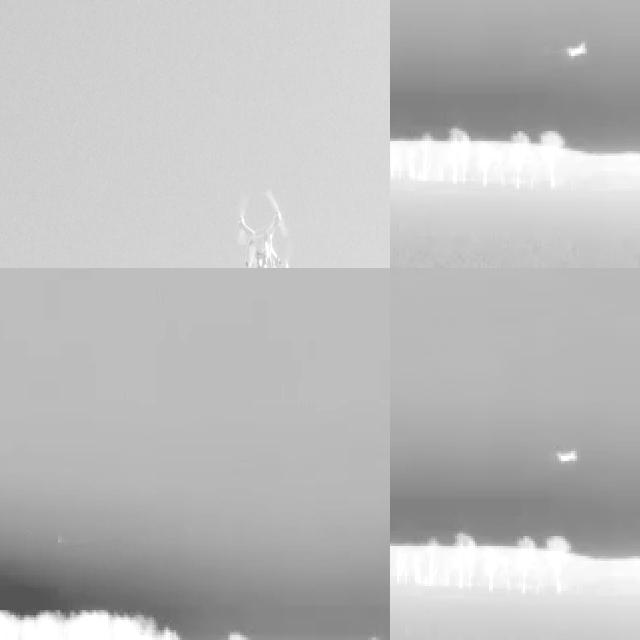0: (44, 528, 76, 560)
1: (546, 444, 592, 476), (558, 40, 600, 70)
drone: (230, 181, 297, 268)
